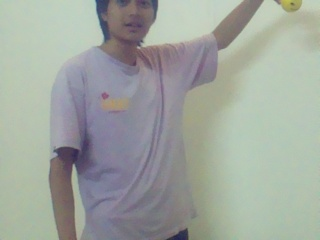ball: (281, 0, 301, 11)
